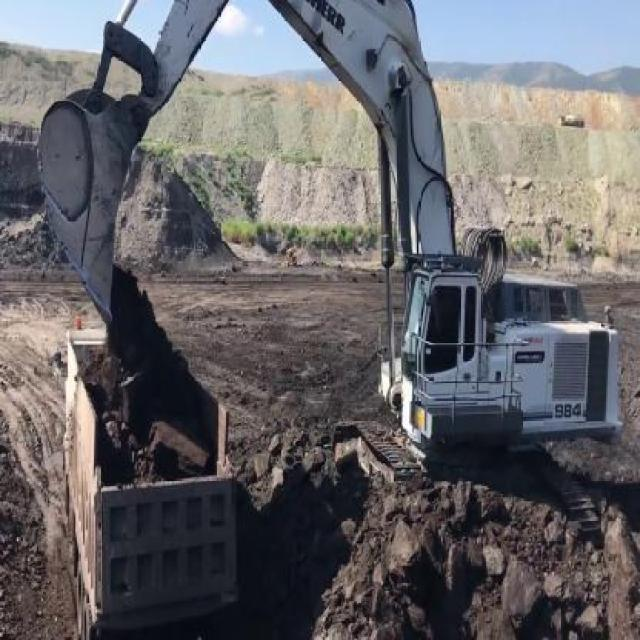dump_truck: (61, 312, 241, 638)
excavator: (36, 0, 626, 548)
